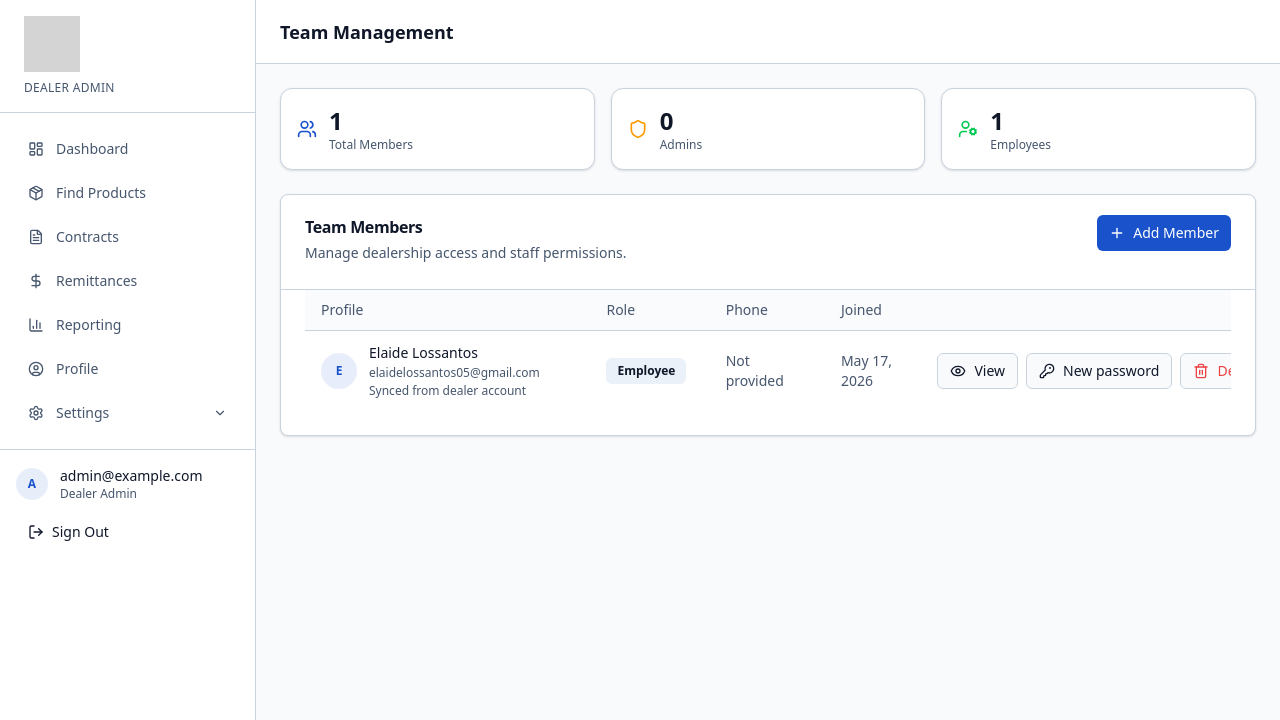
dealership settings team creation › generates a new temporary password for an existing team member
Expected: the text "Elaide Lossantos" is shown, [369, 342, 478, 362]
Click the button "New password".
click(1099, 370)  # box [1026, 352, 1172, 388]
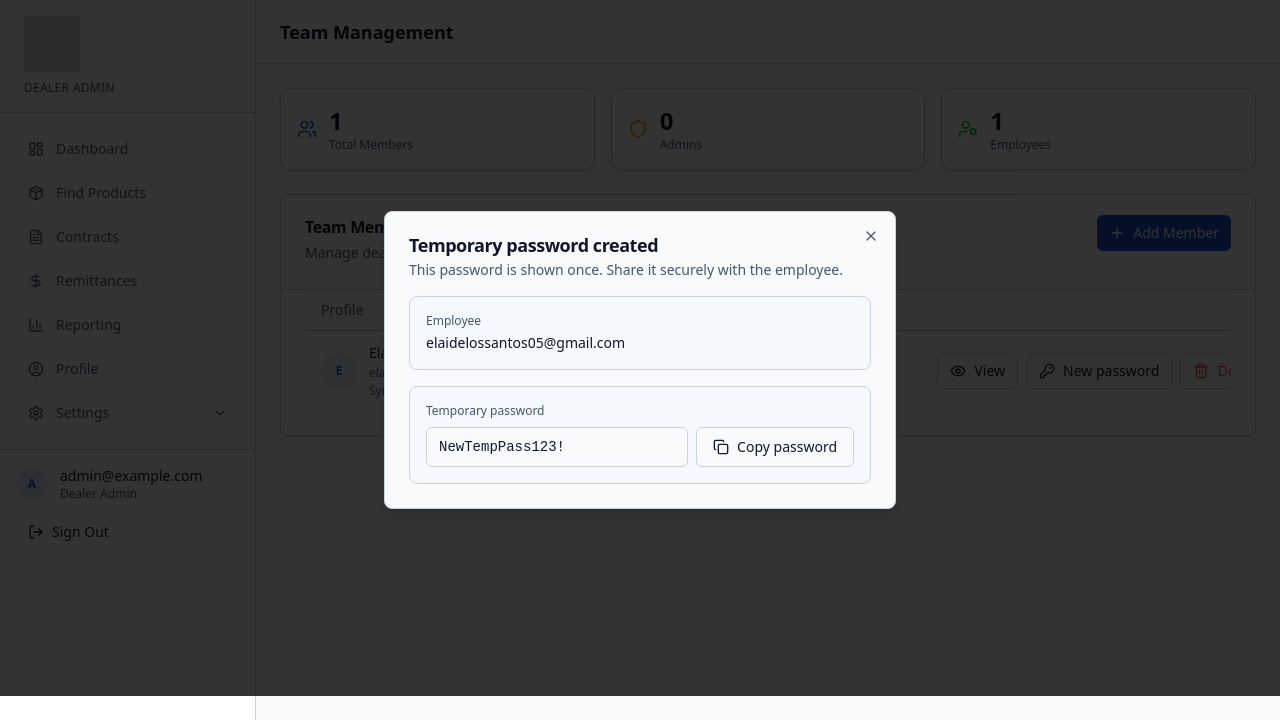
Expected: the heading "Temporary password created" is shown, [409, 233, 658, 257]
Expected: the field showing "NewTempPass123!" is shown, [426, 427, 688, 467]
